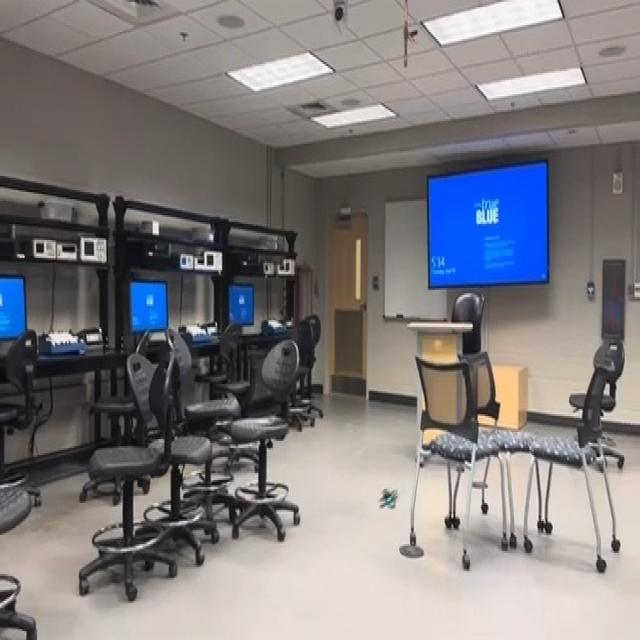drone: (372, 478, 404, 519)
